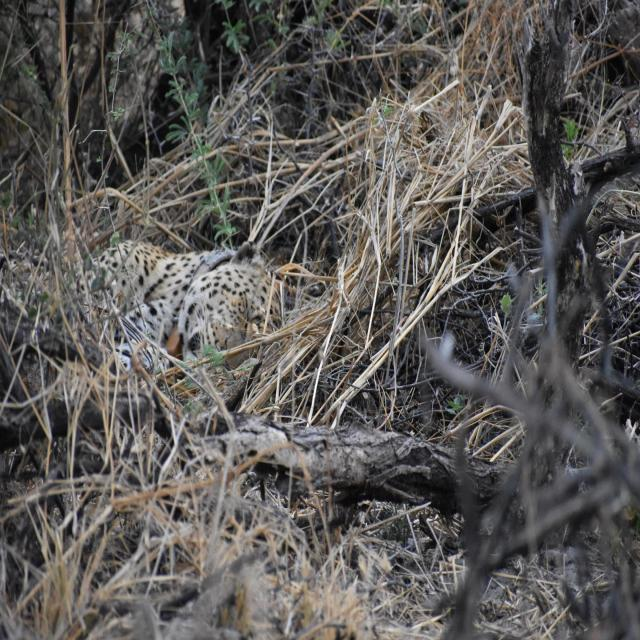Leopard: (53, 223, 302, 389)
